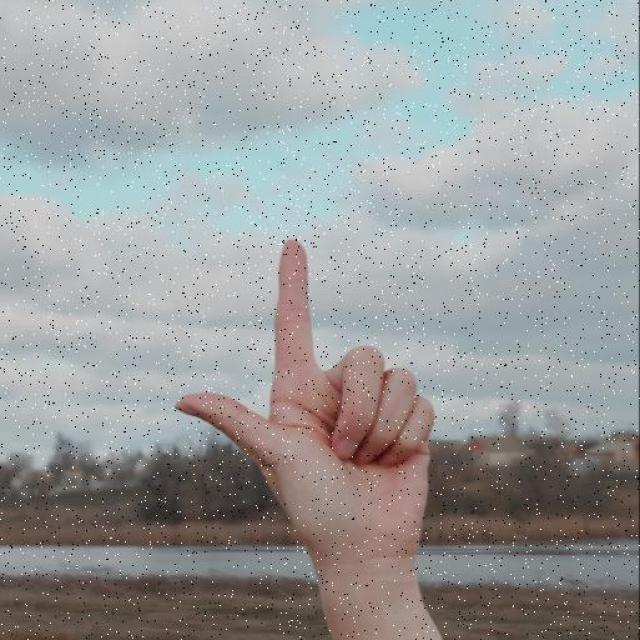L: (173, 233, 436, 545)
